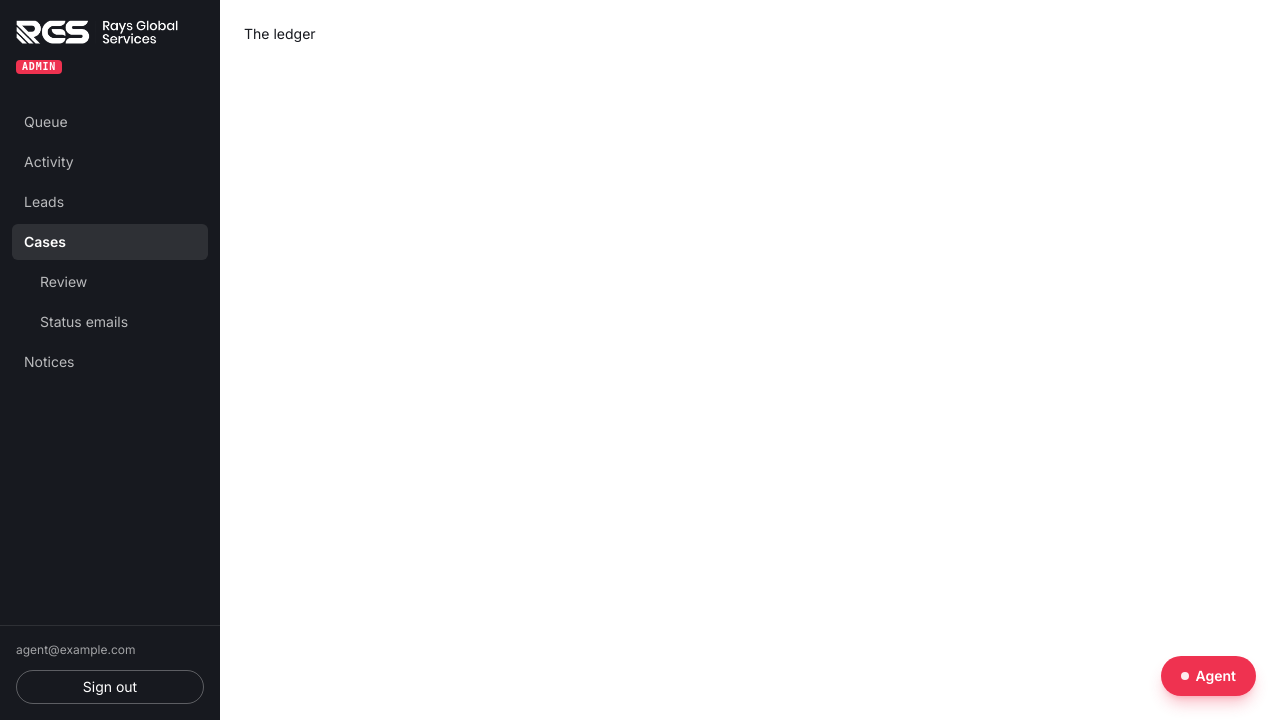
Test: CrmLayout's agent column › starts collapsed, and the floating Agent button opens the panel it is given
The width and height of the screenshot is (1280, 720).
Expected: the field labelled "ask the agent" is not shown
Click the button with aria-label "show the agent panel": x=1209, y=676 top-left (1162, 656), bottom-right (1256, 696)
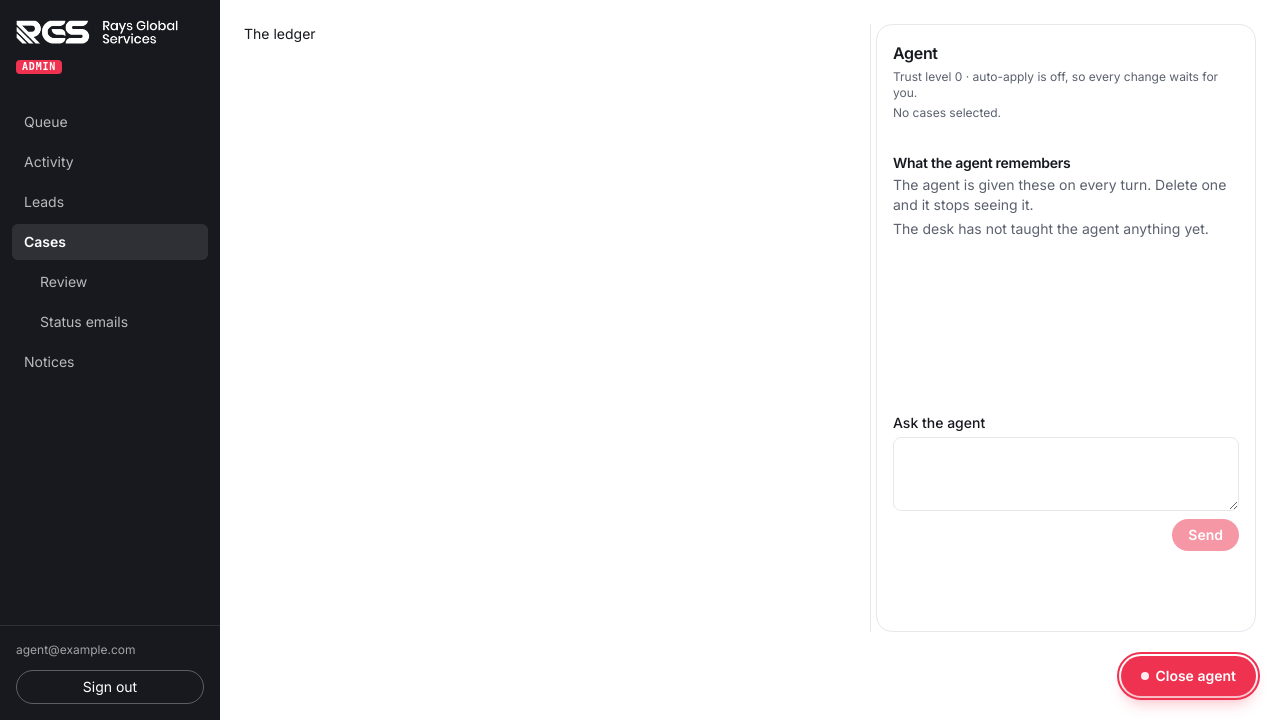
Expected: the text box labelled "Ask the agent" is shown, top-left (893, 437), bottom-right (1239, 511)
